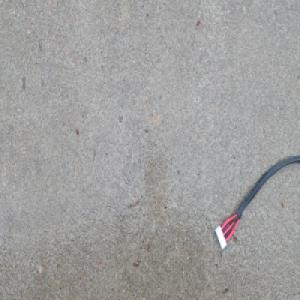Wire: (214, 154, 299, 251)
